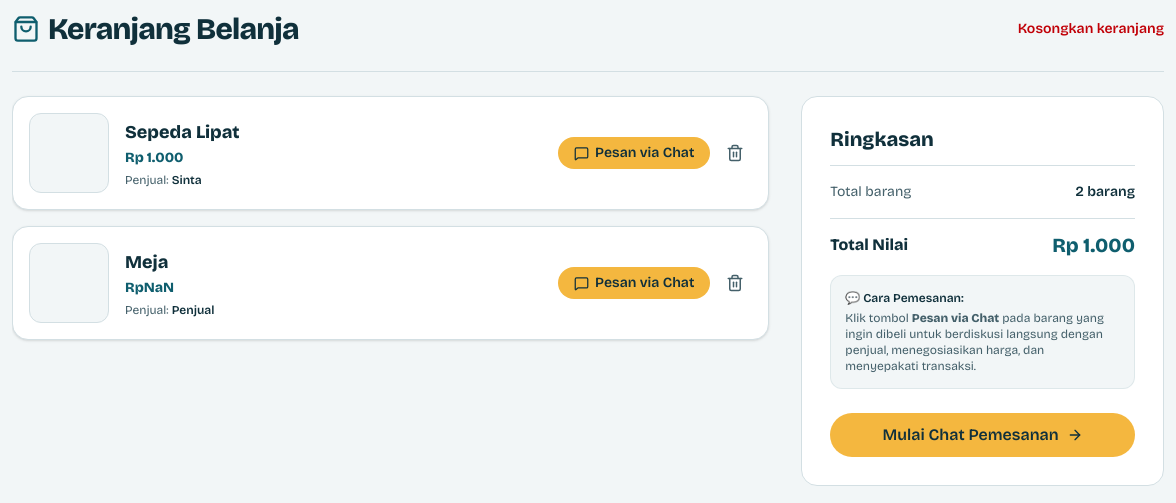
Test: CartPage › menampilkan barang, total, dan menghapus satu barang
Check: the link "Sepeda Lipat" is shown, box [125,118,240,146]
Check: the text "Sinta" is shown, box [172,173,202,187]
Click the button named "Hapus Meja".
click(735, 283)  # box [718,266,752,300]
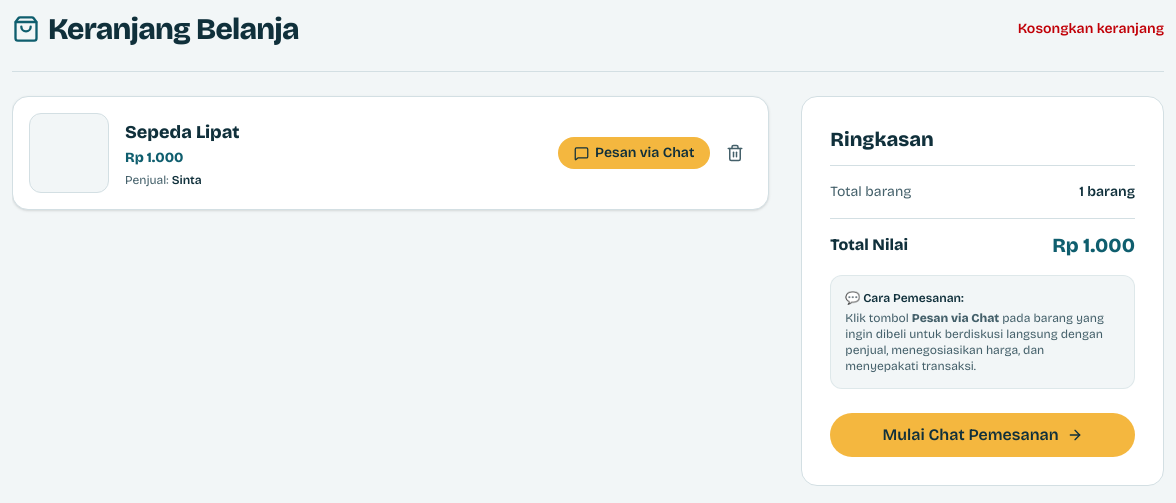
Check: the text "1 barang" is shown, box [1079,182,1135,202]
